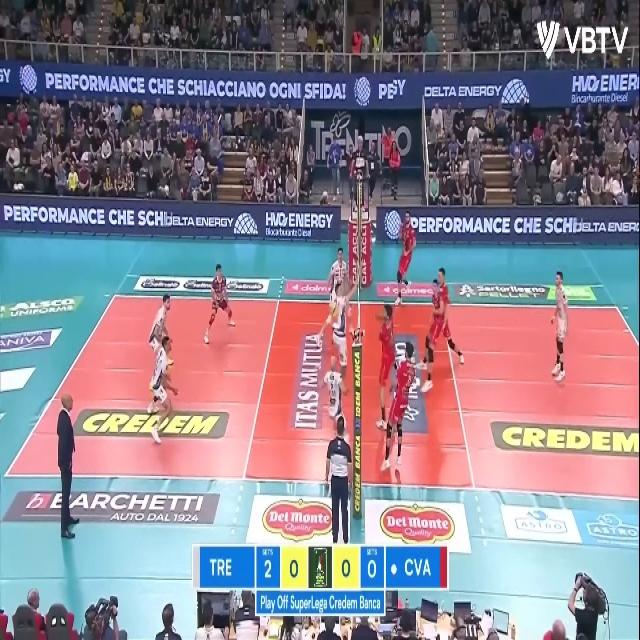volleyball court: (3, 292, 638, 495)
